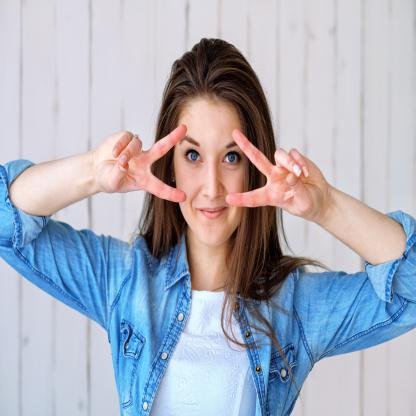Eye: (221, 150, 244, 170), (183, 149, 203, 168)
Mouth: (197, 206, 229, 220)
Nose: (202, 162, 224, 201)
